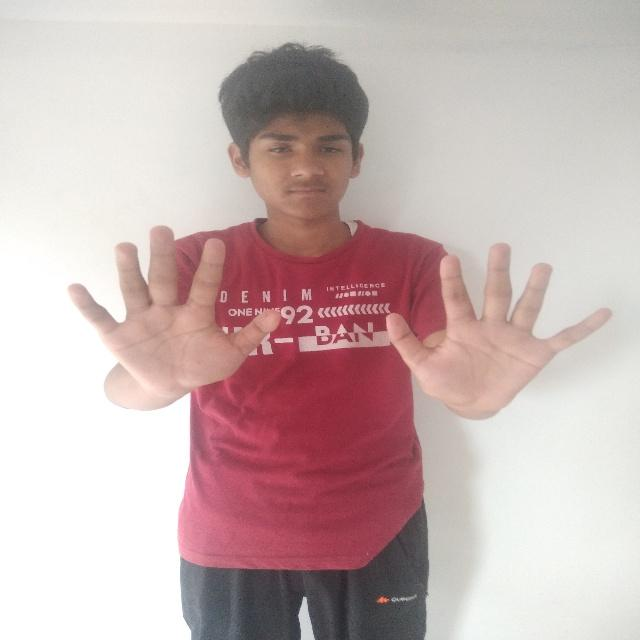Moutza: (67, 219, 288, 413), (382, 239, 612, 425)
